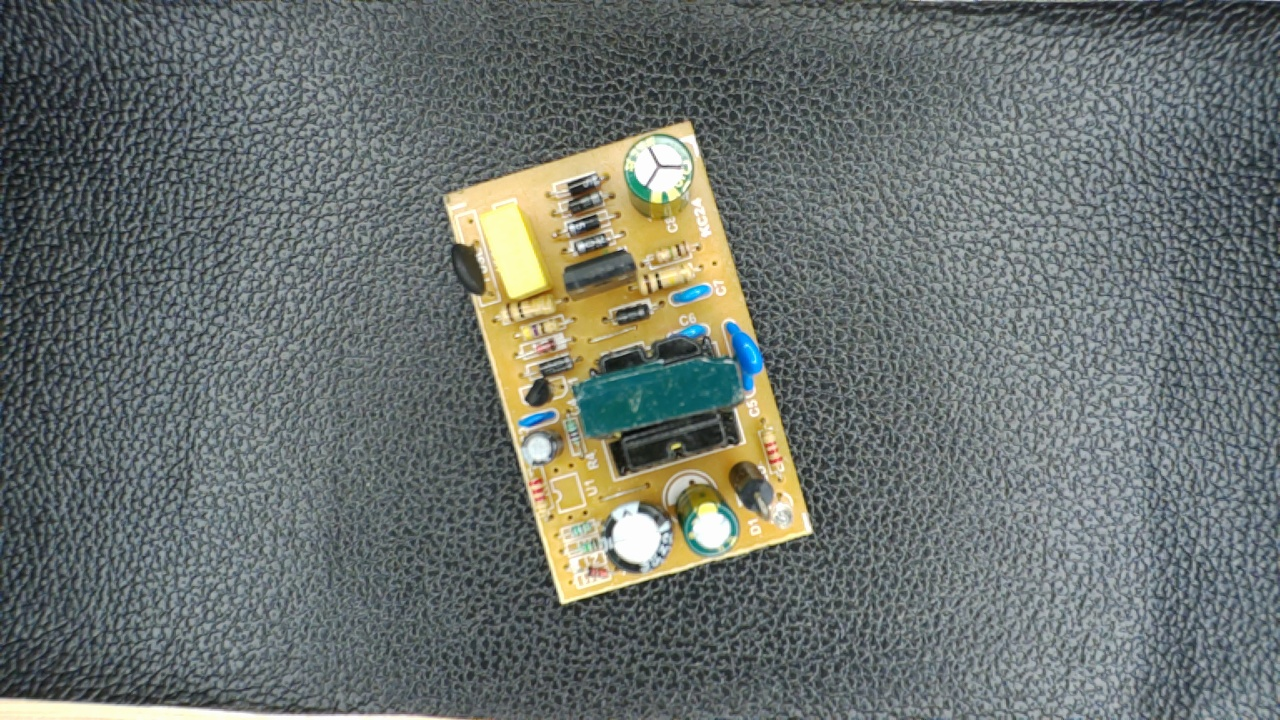fuse: (447, 230, 501, 308)
hv_capacitor: (620, 134, 699, 219)
mov: (722, 317, 767, 396)
